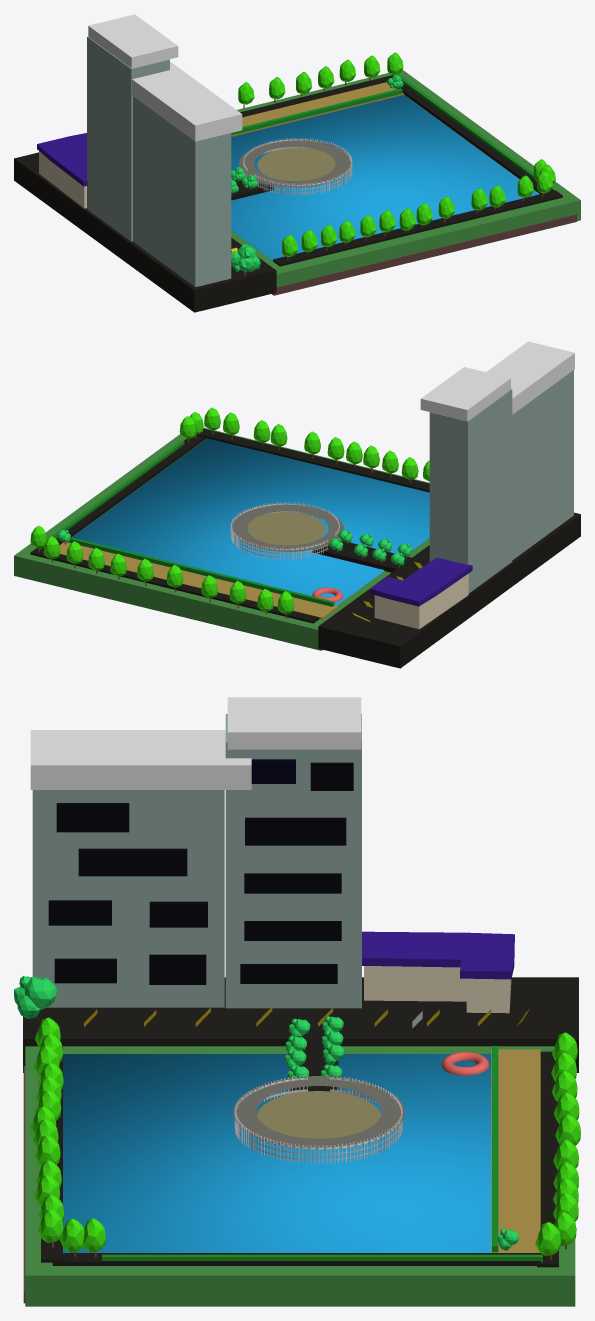
The model's file is benkit.glb.
The picture shows the model from 3 angles, top to bottom: view 1: azimuth 30°, elevation 25°; view 2: azimuth 150°, elevation 25°; view 3: azimuth 270°, elevation 25°; orthographic projection. The views are drawn at different scales.
Visible parts, largest first — view 1: ลูกบาศก์.039, ลูกบาศก์.045, ลูกบาศก์.038, ลูกบาศก์.046, ลูกบาศก์.041, ลูกบาศก์.070, ลูกบาศก์.071, ลูกบาศก์.037, ลูกบาศก์.044, Cylinder.015, Cylinder.014, ลูกบาศก์.072 (+9 smaller); view 2: ลูกบาศก์.039, ลูกบาศก์.046, ลูกบาศก์.038, ลูกบาศก์.041, ลูกบาศก์.045, ลูกบาศก์.070, ลูกบาศก์.071, Cube.030, Cube.029, ลูกบาศก์.044, ลูกบาศก์.072, Cylinder.015 (+7 smaller); view 3: ลูกบาศก์.039, ลูกบาศก์.045, ลูกบาศก์.038, ลูกบาศก์.046, ลูกบาศก์.041, ลูกบาศก์.070, ลูกบาศก์.072, ลูกบาศก์.071, Cube.030, Cube.029, Cylinder.015, Cylinder.014 (+21 smaller).
Boxes of the visible parts, x1,y1,x2,y2 form: ลูกบาศก์.039: (231, 95, 539, 260); ลูกบาศก์.045: (133, 96, 231, 287); ลูกบาศก์.038: (231, 69, 580, 286); ลูกบาศก์.046: (87, 36, 169, 241); ลูกบาศก์.041: (14, 152, 276, 312); ลูกบาศก์.070: (132, 61, 242, 141); ลูกบาศก์.071: (88, 14, 178, 68); ลูกบาศก์.037: (272, 214, 576, 295); ลูกบาศก์.044: (273, 190, 562, 266); Cylinder.015: (257, 148, 335, 180); Cylinder.014: (239, 140, 350, 187); ลูกบาศก์.072: (231, 82, 403, 136); ลูกบาศก์.039: (72, 438, 429, 605); ลูกบาศก์.046: (429, 389, 512, 593); ลูกบาศก์.038: (14, 427, 429, 650); ลูกบาศก์.041: (318, 512, 580, 668); ลูกบาศก์.045: (512, 370, 573, 560); ลูกบาศก์.070: (486, 341, 574, 414); ลูกบาศก์.071: (420, 367, 510, 421); Cube.030: (370, 557, 472, 606); Cube.029: (374, 573, 468, 629); ลูกบาศก์.044: (197, 428, 429, 492); ลูกบาศก์.072: (59, 542, 338, 619); Cylinder.015: (247, 512, 325, 545); ลูกบาศก์.039: (63, 1054, 491, 1252); ลูกบาศก์.045: (32, 790, 224, 1007); ลูกบาศก์.038: (25, 1046, 575, 1306); ลูกบาศก์.046: (225, 714, 361, 1008); ลูกบาศก์.041: (23, 977, 578, 1072); ลูกบาศก์.070: (30, 730, 251, 789); ลูกบาศก์.072: (491, 1049, 540, 1252); ลูกบาศก์.071: (227, 697, 361, 749); Cube.030: (362, 931, 514, 979); Cube.029: (364, 966, 511, 1013); Cylinder.015: (257, 1091, 380, 1138); Cylinder.014: (233, 1076, 405, 1147).
Size of the model in its own units: 1737 by 891 by 1426.
